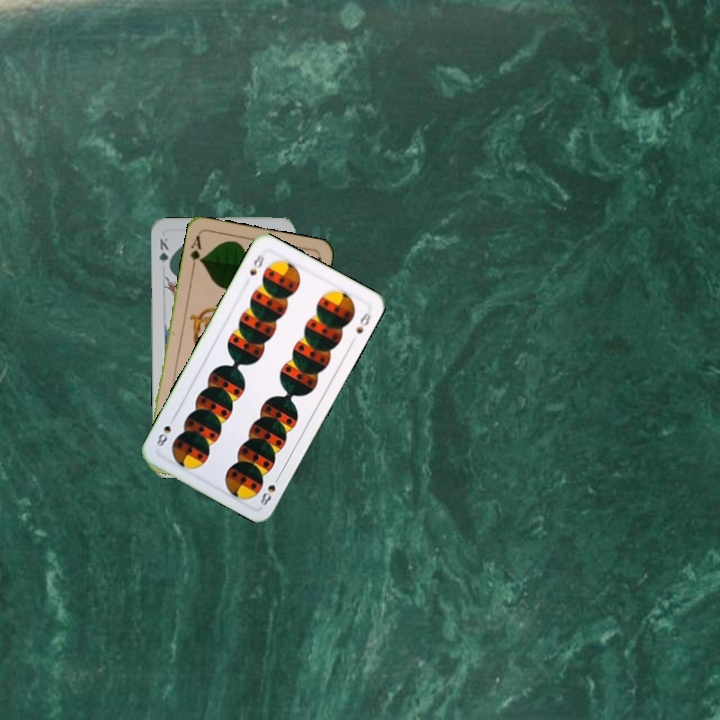GA: (186, 231, 205, 271)
GK: (155, 234, 172, 273)
S8: (256, 471, 283, 508), (245, 250, 267, 278)
